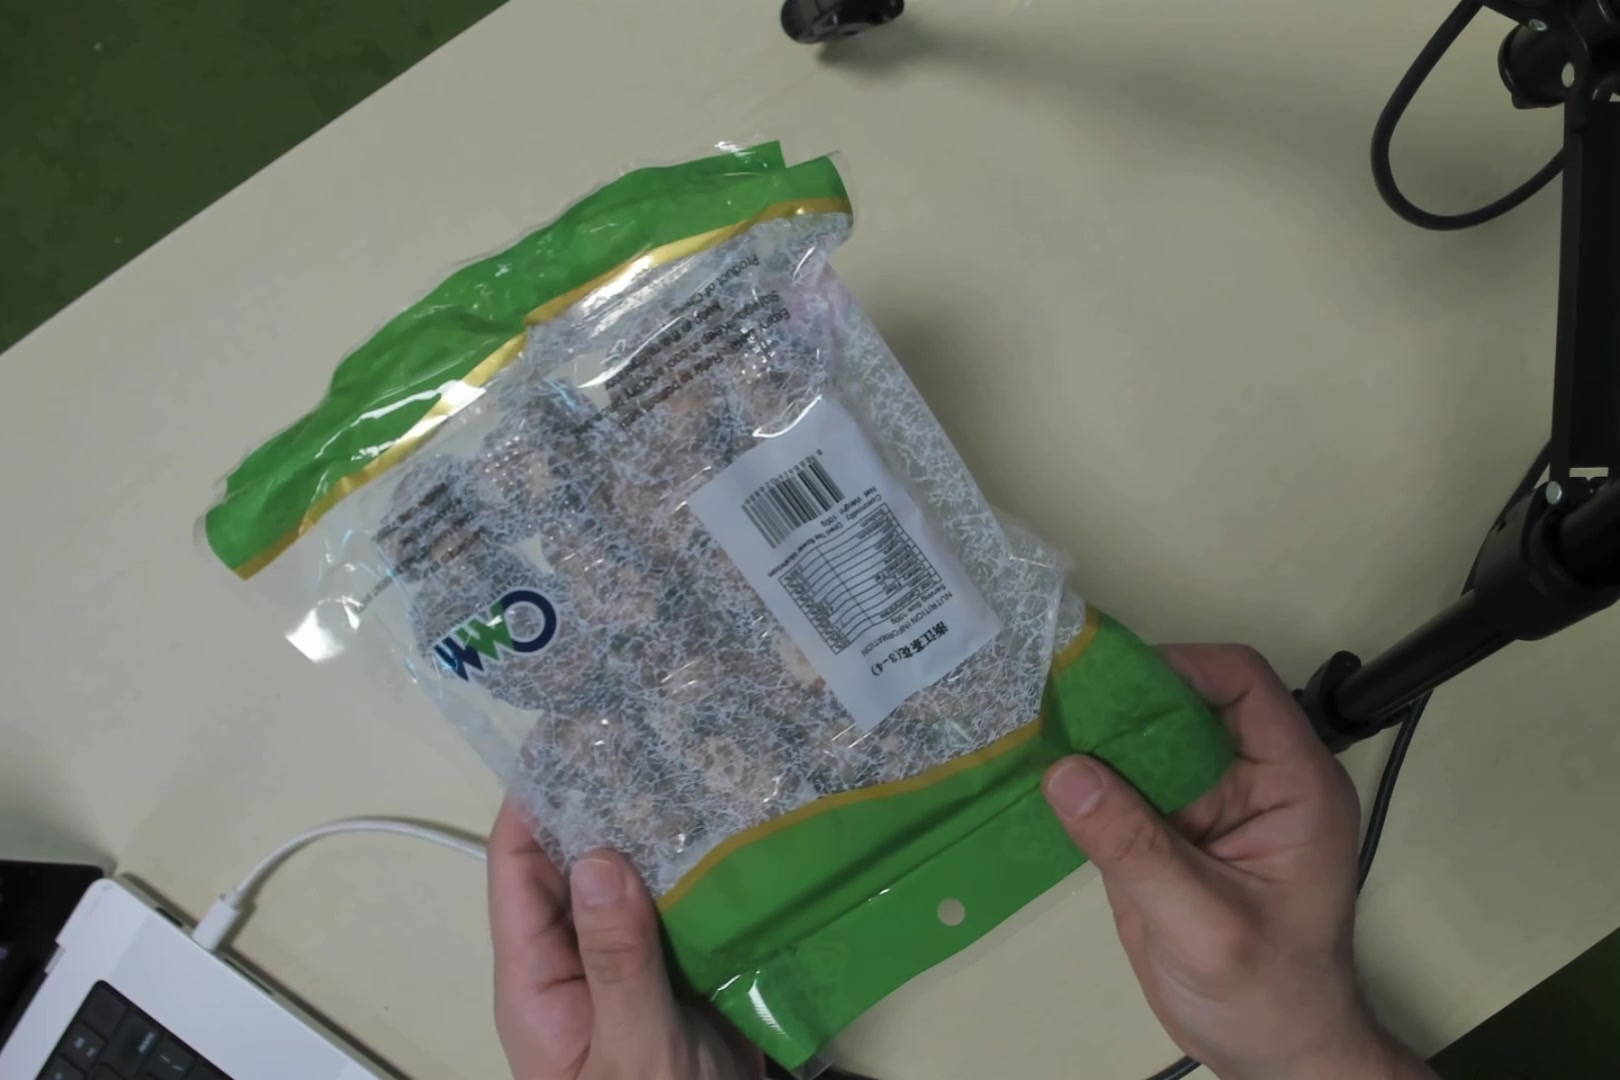OtherDriedFood_100-199g_NonHalal_NonHealthy: (350, 184, 1081, 959)
